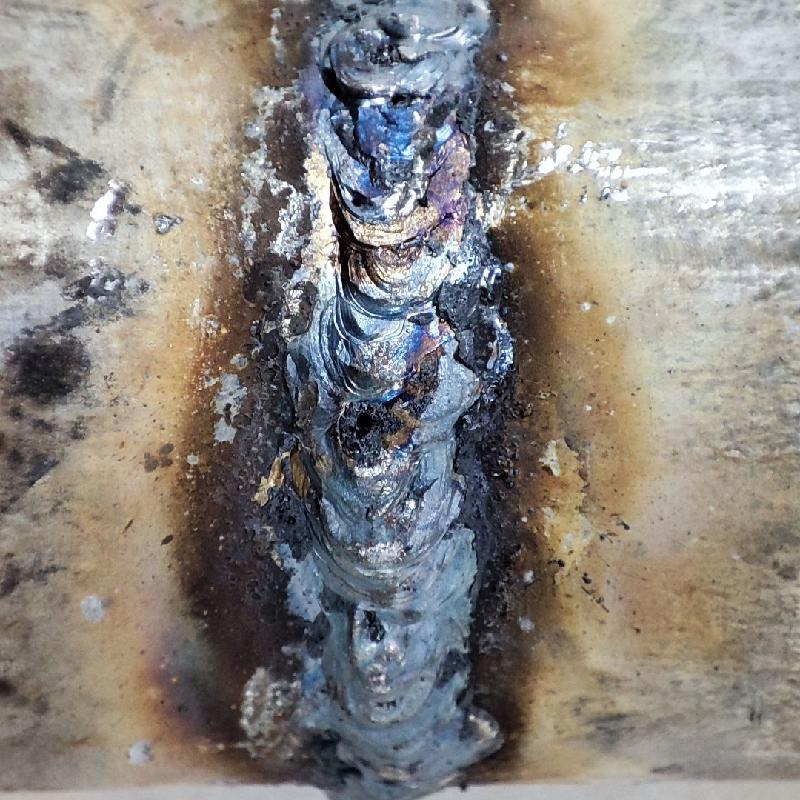Surface_pores: (333, 399, 391, 455), (340, 182, 378, 225), (407, 182, 446, 223), (375, 83, 416, 118)
